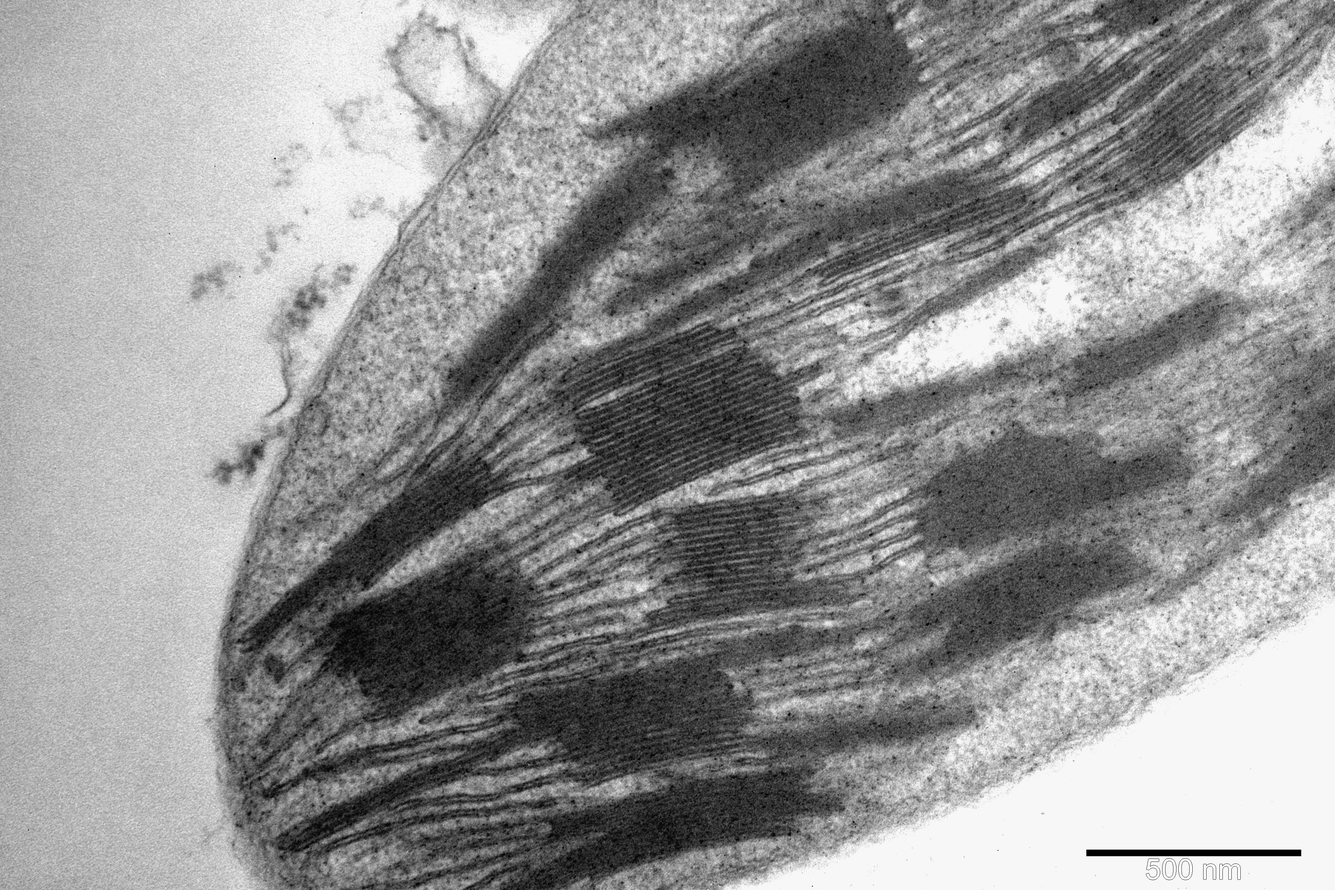granum: (273, 655, 745, 862), (642, 154, 1010, 340), (439, 150, 675, 404), (236, 447, 511, 655), (623, 11, 922, 193), (496, 761, 839, 889), (564, 341, 806, 520), (312, 546, 546, 719), (919, 418, 1190, 561), (900, 539, 1148, 688), (643, 486, 858, 635), (1084, 52, 1264, 213), (825, 337, 1065, 440), (817, 182, 1030, 285), (1216, 337, 1335, 521), (1071, 288, 1249, 397), (1118, 0, 1273, 118), (549, 318, 728, 414), (601, 222, 767, 319), (753, 694, 978, 761), (1011, 52, 1139, 148), (708, 621, 859, 670), (1098, 0, 1197, 36)
